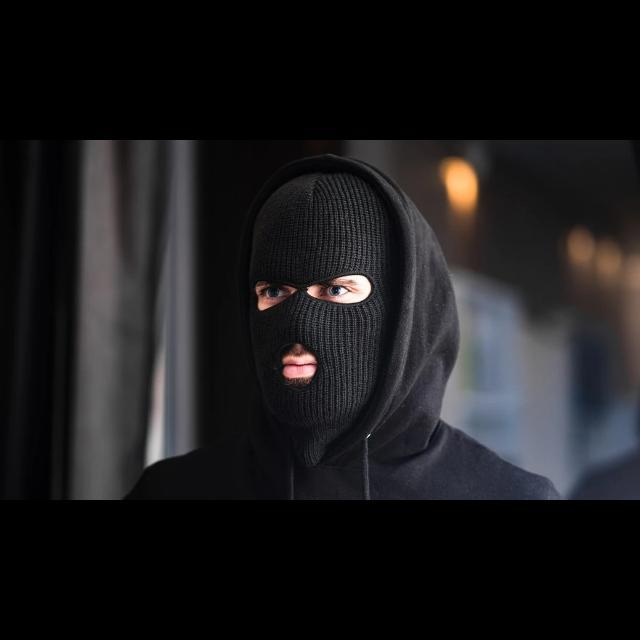criminal: (118, 153, 563, 501)
